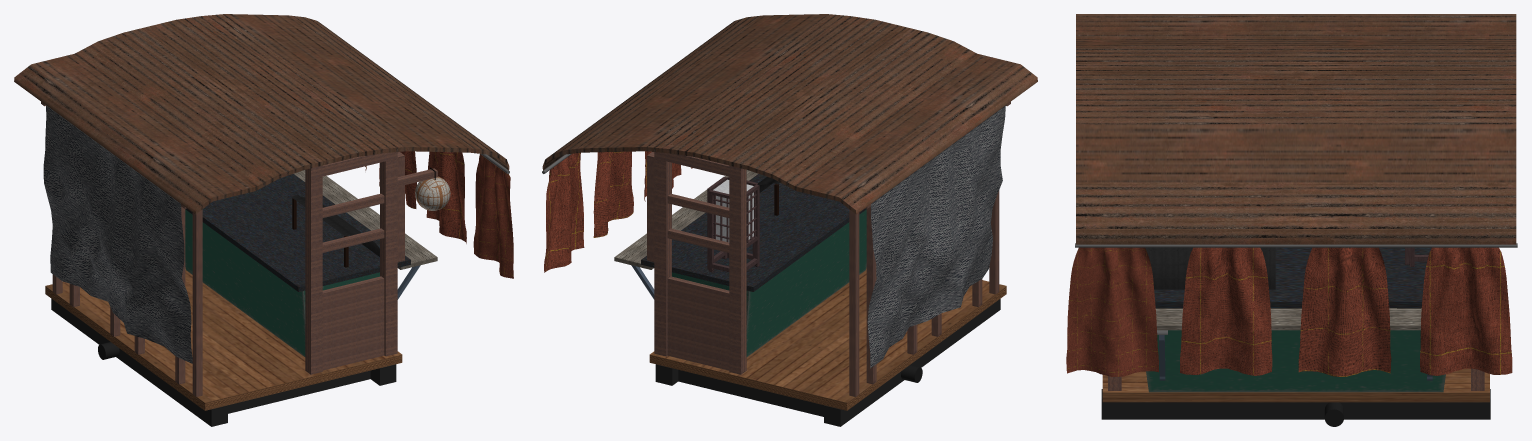
File: japankut2.obj
3 renders of one model, left to right at view 1: azimuth 30°, elevation 25°; view 2: azimuth 150°, elevation 25°; view 3: azimuth 270°, elevation 25°, orthographic. The views are drawn at different scales.
Visible parts, largest first — view 1: asd, edc, hig, yt, ass; view 2: asd, edc, hig, yt, guk; view 3: asd, hig, edc, yt, ass.
Boxes of the visible parts, x1,y1,x2,y2 form: asd: (14,14,509,426); edc: (45,170,437,410); hig: (43,106,513,363); yt: (41,101,509,396); ass: (291,167,450,267); asd: (542,14,1037,426); edc: (614,170,1006,410); hig: (544,106,1005,368); yt: (542,102,1010,396); guk: (707,176,759,272); asd: (1076,14,1516,426); hig: (1066,247,1512,376); edc: (1102,247,1489,402); yt: (1075,243,1517,390); ass: (1145,247,1275,289).
Bounding box in the file's own units: 148 × 110 × 149.
